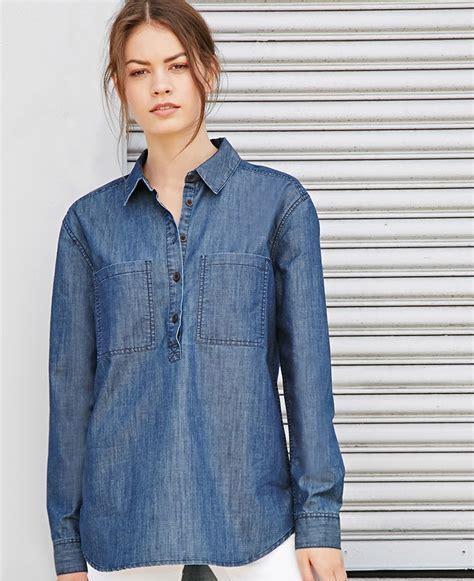shirt: (47, 137, 345, 574)
